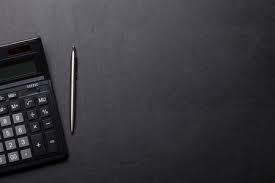Calculator: (0, 36, 72, 183)
